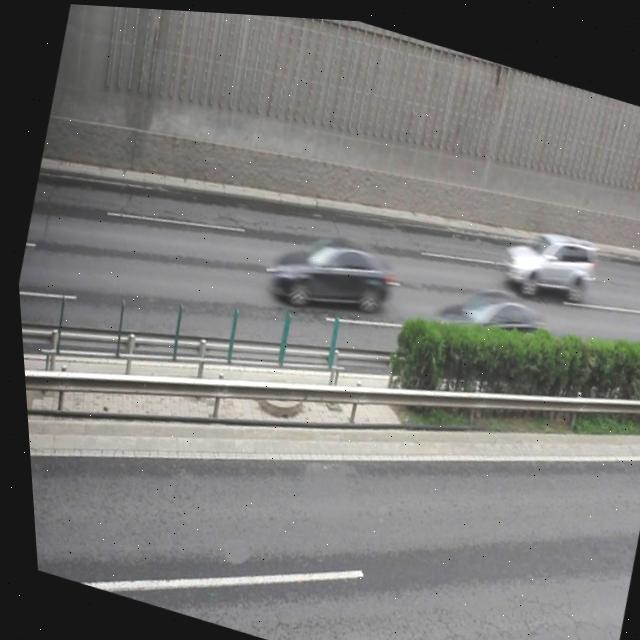car: (259, 220, 395, 323), (414, 268, 543, 371), (492, 208, 599, 304)
